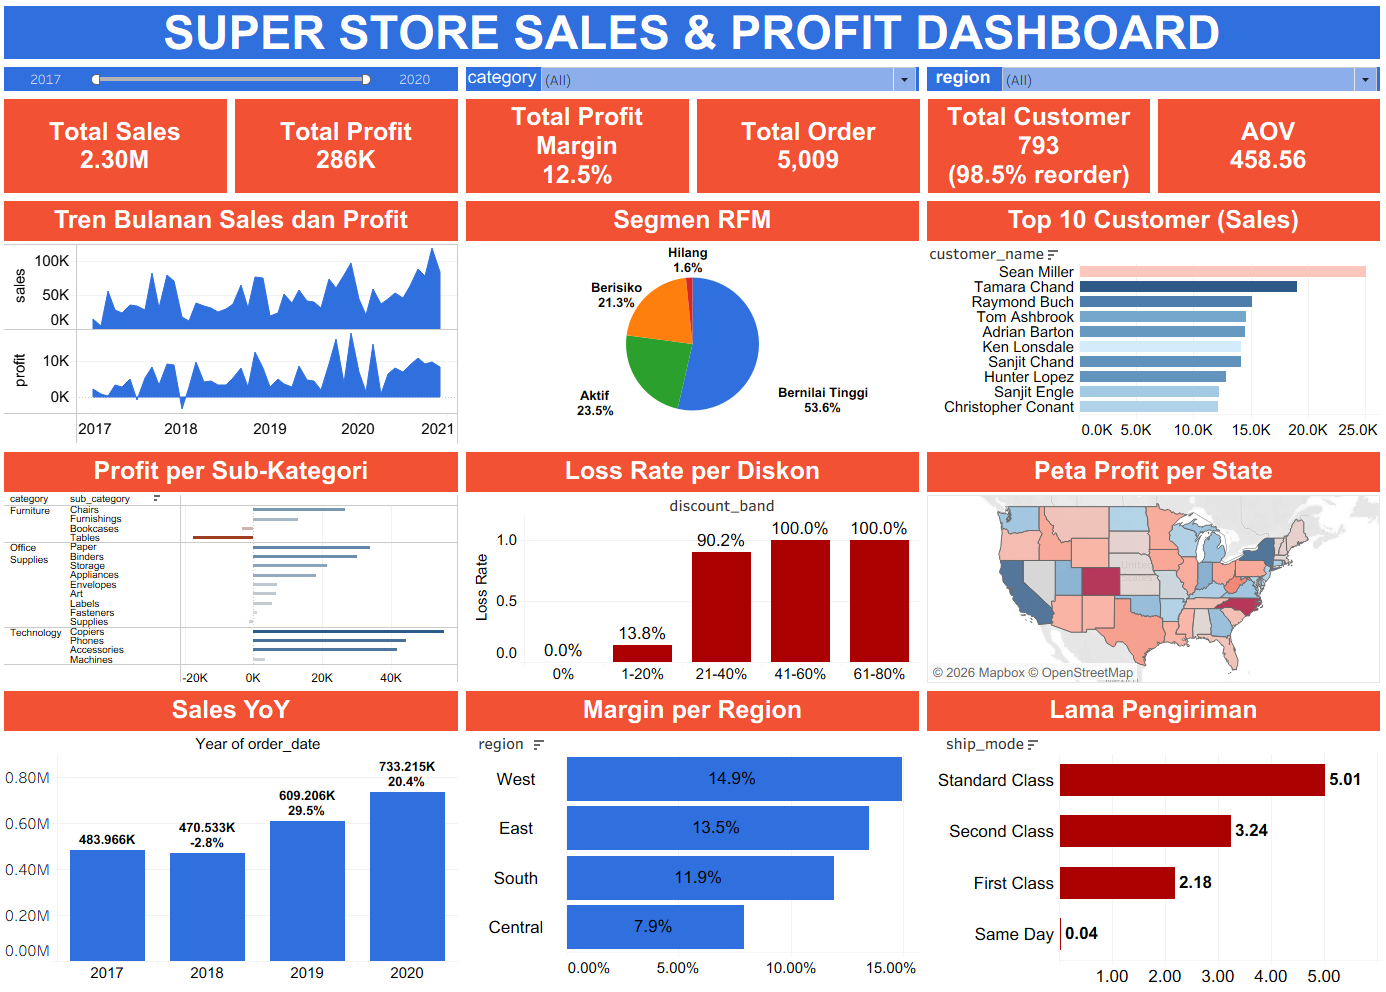

This screenshot's page, from the dashboard's own definition file:
{"tool":"tableau","page":{"name":"Dashboard","canvas":[1400,1000],"ordinal":0},"visuals":[{"type":"text","box":[8,8,1384,61]},{"type":"filter","title":"Tren Bulanan Sales dan Profit","param":"[federated.1gcbrfs10u0j441d7hy221z0d7u5].[none:order_year:qk]","box":[8,69,462,32]},{"type":"filter","title":"Tren Bulanan Sales dan Profit","param":"[federated.1gcbrfs10u0j441d7hy221z0d7u5].[none:category:nk]","box":[470,69,461,32]},{"type":"filter","title":"Tren Bulanan Sales dan Profit","param":"[federated.1gcbrfs10u0j441d7hy221z0d7u5].[none:region:nk]","box":[931,69,461,32]},{"type":"worksheet","title":"KPI Sales","mark":"Text","box":[8,101,231,102]},{"type":"worksheet","title":" KPI Profit","mark":"Text","box":[239,101,231,102]},{"type":"worksheet","title":"KPI Profit Margin","mark":"Text","box":[470,101,231,102]},{"type":"worksheet","title":"KPI Orders","mark":"Text","box":[701,101,231,102]},{"type":"worksheet","title":"KPI Customers","mark":"Text","box":[932,101,230,102]},{"type":"worksheet","title":"KPI AOV","mark":"Text","box":[1162,101,230,102]},{"type":"worksheet","title":"Tren Bulanan Sales dan Profit","mark":"Area","rows":["sales","profit"],"cols":["order_month_start"],"box":[8,203,462,251]},{"type":"worksheet","title":"Segmen RFM","mark":"Pie","box":[470,203,461,251]},{"type":"worksheet","title":"Top 10 Customer (Sales)","mark":"Automatic","rows":["customer_name"],"cols":["sales"],"box":[931,203,461,251]},{"type":"worksheet","title":"Profit per Sub-Kategori","mark":"Automatic","rows":["category","sub_category"],"cols":["profit"],"box":[8,454,462,239]},{"type":"worksheet","title":"Loss Rate per Diskon","mark":"Bar","rows":["Calculation_1480280167559173"],"cols":["discount_band"],"box":[470,454,461,239]},{"type":"worksheet","title":"Peta Profit per State","mark":"Multipolygon","box":[931,454,461,239]},{"type":"worksheet","title":"Sales YoY","mark":"Bar","rows":["sales"],"cols":["order_date"],"box":[8,693,462,299]},{"type":"worksheet","title":"Margin per Region","mark":"Bar","rows":["region"],"cols":["Calculation_1480280166383616"],"box":[470,693,461,299]},{"type":"worksheet","title":"Lama Pengiriman","mark":"Automatic","rows":["ship_mode"],"cols":["ship_days"],"box":[931,693,461,299]}]}

Visuals, with their boxes in screenshot pixels (x1, y1, x2, y2), scaled from the page's 1400x1000 canvas onto the 1386x992 screenshot:
text: (x1=8, y1=8, x2=1378, y2=68)
"Tren Bulanan Sales dan Profit" filter: (x1=8, y1=68, x2=465, y2=100)
"Tren Bulanan Sales dan Profit" filter: (x1=465, y1=68, x2=922, y2=100)
"Tren Bulanan Sales dan Profit" filter: (x1=922, y1=68, x2=1378, y2=100)
"KPI Sales" worksheet (Text marks): (x1=8, y1=100, x2=237, y2=201)
" KPI Profit" worksheet (Text marks): (x1=237, y1=100, x2=465, y2=201)
"KPI Profit Margin" worksheet (Text marks): (x1=465, y1=100, x2=694, y2=201)
"KPI Orders" worksheet (Text marks): (x1=694, y1=100, x2=923, y2=201)
"KPI Customers" worksheet (Text marks): (x1=923, y1=100, x2=1150, y2=201)
"KPI AOV" worksheet (Text marks): (x1=1150, y1=100, x2=1378, y2=201)
"Tren Bulanan Sales dan Profit" worksheet (Area marks): (x1=8, y1=201, x2=465, y2=450)
"Segmen RFM" worksheet (Pie marks): (x1=465, y1=201, x2=922, y2=450)
"Top 10 Customer (Sales)" worksheet: (x1=922, y1=201, x2=1378, y2=450)
"Profit per Sub-Kategori" worksheet: (x1=8, y1=450, x2=465, y2=687)
"Loss Rate per Diskon" worksheet (Bar marks): (x1=465, y1=450, x2=922, y2=687)
"Peta Profit per State" worksheet (Multipolygon marks): (x1=922, y1=450, x2=1378, y2=687)
"Sales YoY" worksheet (Bar marks): (x1=8, y1=687, x2=465, y2=984)
"Margin per Region" worksheet (Bar marks): (x1=465, y1=687, x2=922, y2=984)
"Lama Pengiriman" worksheet: (x1=922, y1=687, x2=1378, y2=984)
